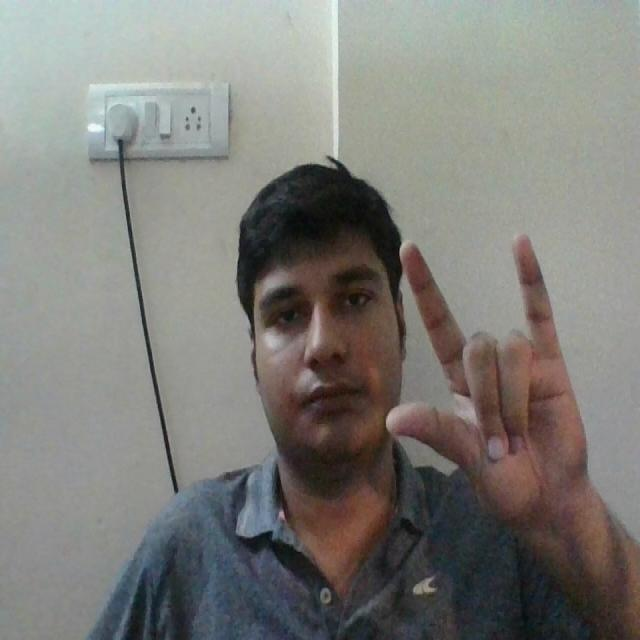I love you: (376, 218, 602, 552)
